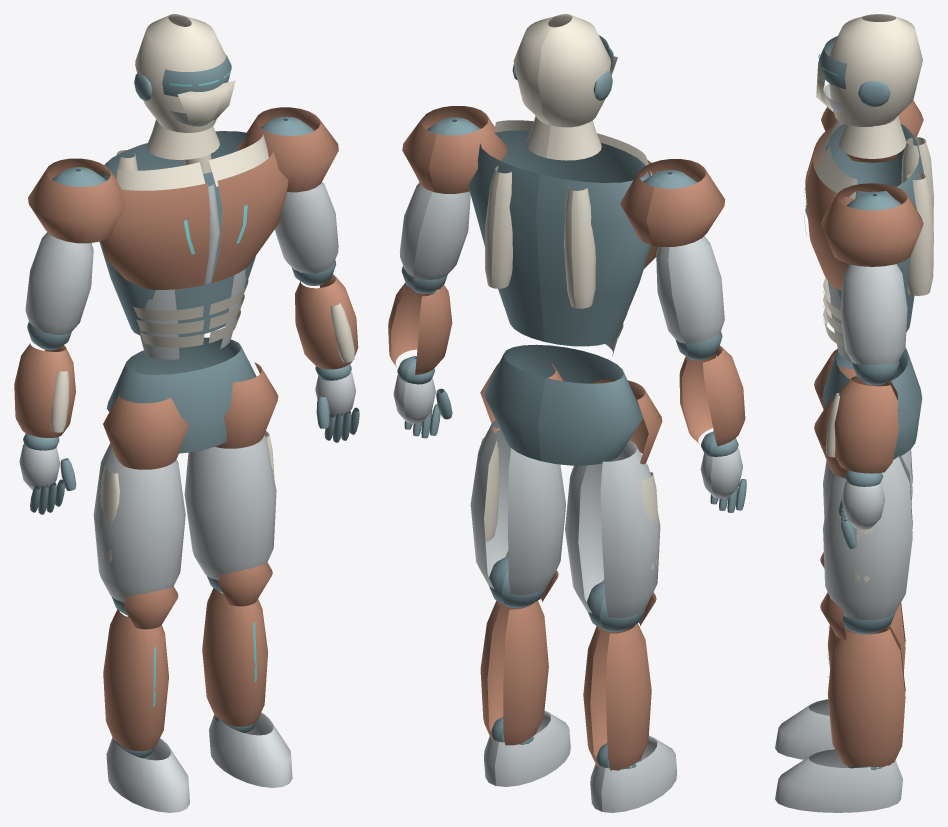
File: aster-exosuit.glb
3 renders of one model, left to right at view 1: azimuth 30°, elevation 25°; view 2: azimuth 150°, elevation 25°; view 3: azimuth 270°, elevation 25°, orthographic. The views are drawn at different scales.
Parts seen in each view (by area): view 1: R thigh shell, L thigh shell, Left pectoral wing, Pelvic yoke, L greave, R greave, Helmet dome, Right pectoral wing, L shoulder mantle, Flexible thorax, L upper arm, L hip wing (+27 smaller); view 2: Flexible thorax, Pelvic yoke, L thigh shell, R thigh shell, Helmet dome, L greave, R greave, L shoulder mantle, L upper arm, R shoulder mantle, R upper arm, L forearm vambrace (+16 smaller); view 3: R thigh shell, R greave, Helmet dome, R upper arm, R boot, R shoulder mantle, R forearm vambrace, Flexible thorax, Pelvic yoke, L boot, Right pectoral wing, R dorsal rail (+20 smaller).
Part boxes in pixels (box(x1,y1,x2,y2)): R thigh shell: box(184, 435, 276, 580); L thigh shell: box(93, 443, 185, 602); Left pectoral wing: box(101, 183, 210, 289); Pelvic yoke: box(106, 337, 256, 453); L greave: box(103, 609, 168, 751); R greave: box(202, 588, 267, 726); Helmet dome: box(135, 14, 226, 132); Right pectoral wing: box(211, 152, 288, 282); L shoulder mantle: box(28, 158, 125, 243); Flexible thorax: box(99, 131, 255, 337); L upper arm: box(25, 232, 93, 334); L hip wing: box(103, 395, 189, 469); Flexible thorax: box(468, 130, 650, 346); Pelvic yoke: box(484, 344, 643, 465); L thigh shell: box(565, 440, 660, 618); R thigh shell: box(470, 420, 565, 595); Helmet dome: box(513, 14, 610, 127); L greave: box(583, 623, 651, 770); R greave: box(480, 600, 548, 745); L shoulder mantle: box(620, 159, 724, 246); L upper arm: box(656, 236, 724, 343); R shoulder mantle: box(402, 106, 507, 193); R upper arm: box(399, 182, 470, 280); L forearm vambrace: box(679, 345, 745, 446); R thigh shell: box(823, 456, 912, 620); R greave: box(827, 625, 905, 767); Helmet dome: box(828, 14, 922, 126); R upper arm: box(840, 264, 907, 365); R boot: box(775, 749, 902, 812); R shoulder mantle: box(821, 183, 923, 266); R forearm vambrace: box(834, 376, 898, 473); Flexible thorax: box(825, 124, 923, 331); Pelvic yoke: box(822, 348, 922, 458); L boot: box(775, 699, 834, 759); Right pectoral wing: box(805, 161, 854, 290); R dorsal rail: box(905, 173, 933, 295).
Bounding box in the file's own units: 0.572 × 1.22 × 0.232.
